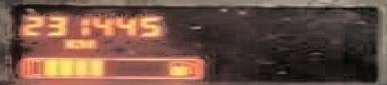1: (76, 15, 87, 37)
2: (18, 13, 42, 36)
3: (45, 15, 67, 35)
4: (111, 15, 136, 36), (89, 15, 111, 36)
5: (138, 13, 165, 36)
X: (78, 38, 96, 49), (62, 38, 78, 49)
